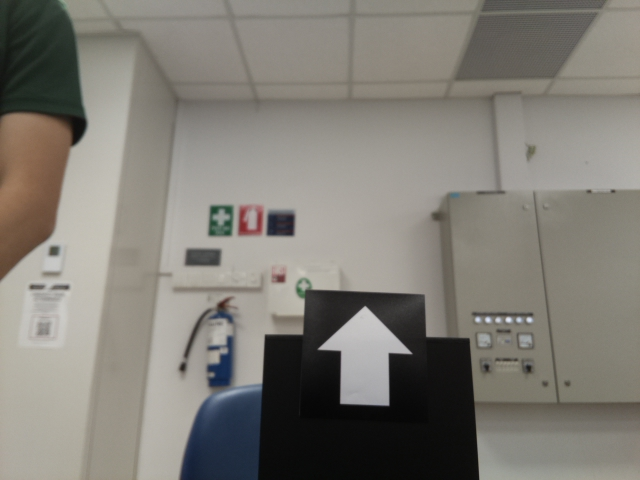up: (307, 296, 420, 423)
